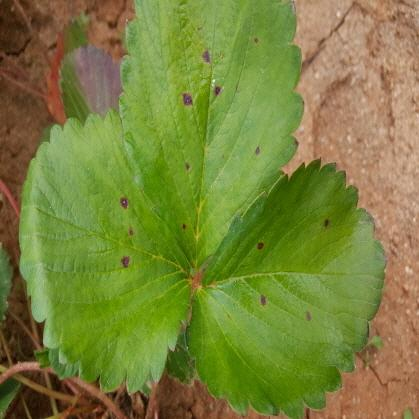Leaf Spot: (183, 156, 387, 418), (17, 105, 196, 395), (116, 0, 304, 275)
